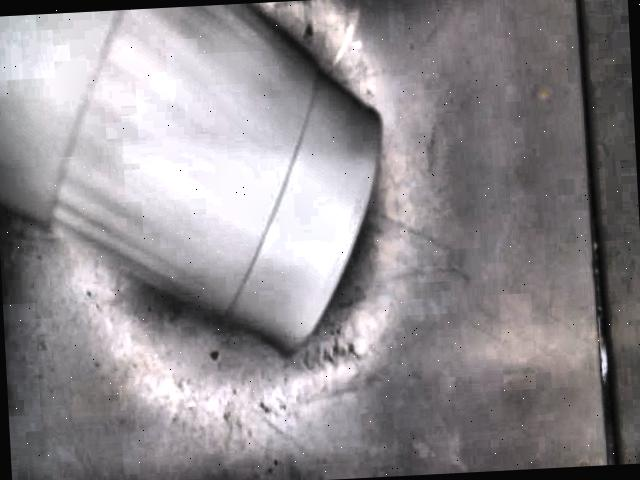Plastic: (0, 3, 381, 359)
